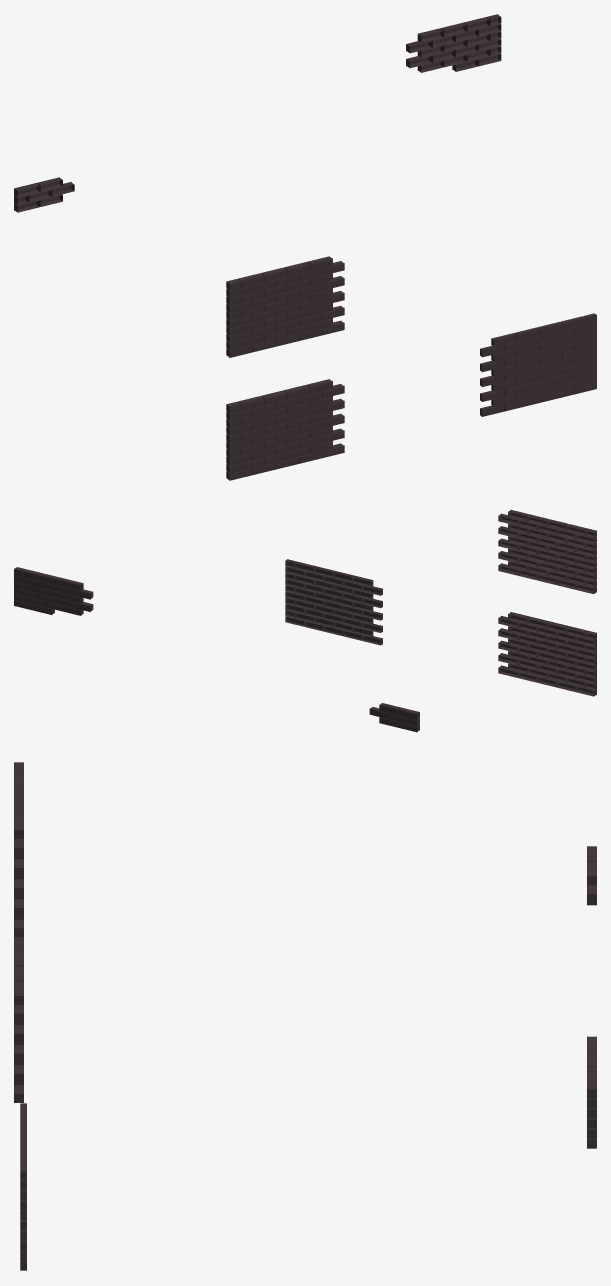
File: Bricks.fbx
3 renders of one model, top to bottom at view 1: azimuth 30°, elevation 25°; view 2: azimuth 150°, elevation 25°; view 3: azimuth 270°, elevation 25°, orthographic. The views are drawn at different scales.
Parts seen in each view (by area): view 1: Bricks; view 2: Bricks; view 3: Bricks.
Boxes of the visible parts, x1,y1,x2,y2 form: Bricks: (14, 14, 596, 480); Bricks: (14, 510, 596, 732); Bricks: (14, 762, 596, 1270).
Size of the model in its own units: 760 by 296 by 587.
